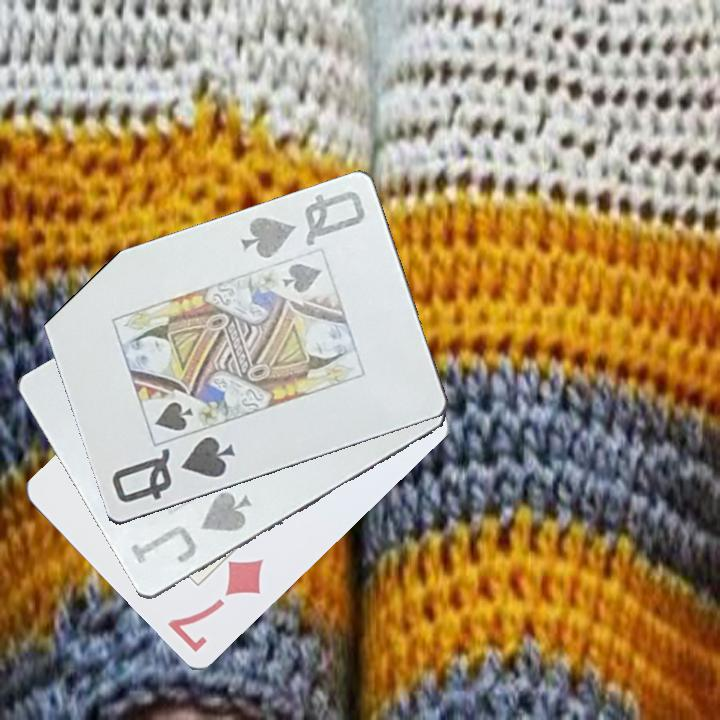7d: (163, 555, 267, 657)
Js: (127, 488, 254, 568)
Qs: (237, 187, 368, 265), (108, 433, 238, 507)
